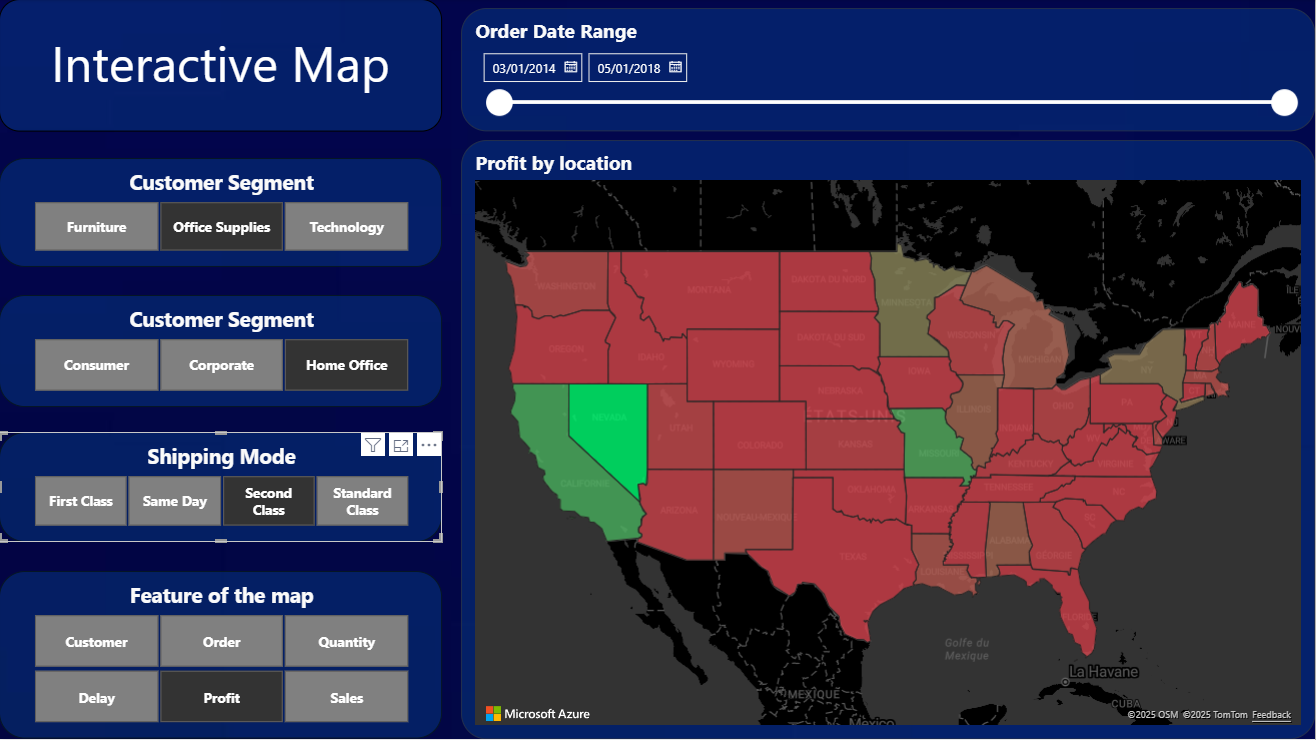

Layout of this report page (visuals, bound fields, positions):
{"tool":"powerbi","page":{"name":"Map","canvas":[1280,720],"ordinal":1},"visuals":[{"type":"azureMap","fields":{"Category":["City.State"]},"box":[448.9,136.7,831.1,583.3],"z":0},{"type":"slicer","title":"Order Date Range","fields":{"Values":["TableDate.Date"]},"box":[448.9,8.9,831.1,120],"z":1000},{"type":"slicer","title":"Feature of the map","fields":{"Values":["Allmeasure.Name"]},"box":[0,556.7,431.1,163.3],"z":2000},{"type":"slicer","title":"Shipping Mode","fields":{"Values":["Ship.Ship Mode"]},"box":[0,421.1,431.1,106.7],"z":3000},{"type":"slicer","title":"Customer Segment","fields":{"Values":["Segment.Segment"]},"box":[0,287.8,431.1,108.9],"z":4000},{"type":"slicer","title":"Customer Segment","fields":{"Values":["Product.Category"]},"box":[0,154.4,431.1,105.6],"z":5000},{"type":"textbox","box":[0,0,431.1,128.9],"z":6000}]}

Visuals, with their boxes in screenshot pixels (x1, y1, x2, y2), scaled from the page's 1280x720 canvas onto the 1316x740 screenshot:
azureMap - City.State: box(462, 140, 1315, 739)
"Order Date Range" slicer: box(462, 9, 1315, 132)
"Feature of the map" slicer: box(0, 572, 443, 739)
"Shipping Mode" slicer: box(0, 433, 443, 542)
"Customer Segment" slicer: box(0, 296, 443, 408)
"Customer Segment" slicer: box(0, 159, 443, 267)
textbox: box(0, 0, 443, 132)
